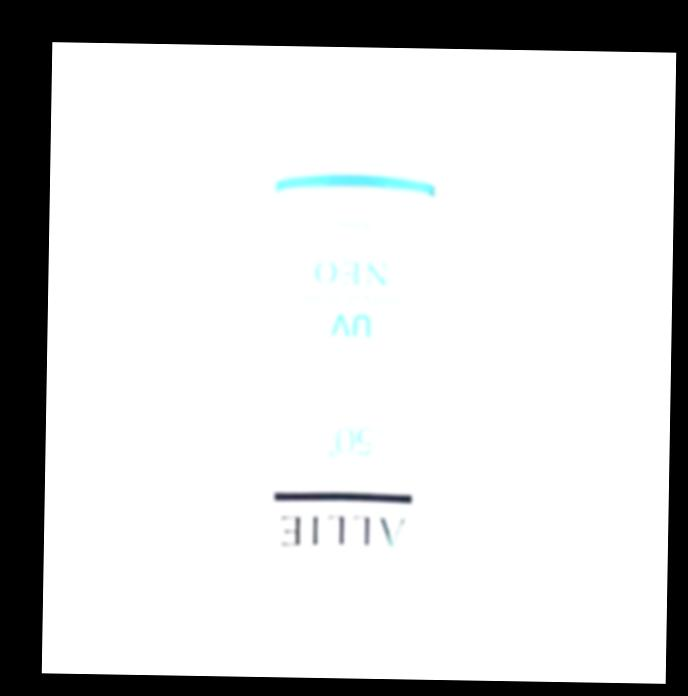cosmetic: (233, 85, 468, 644)
